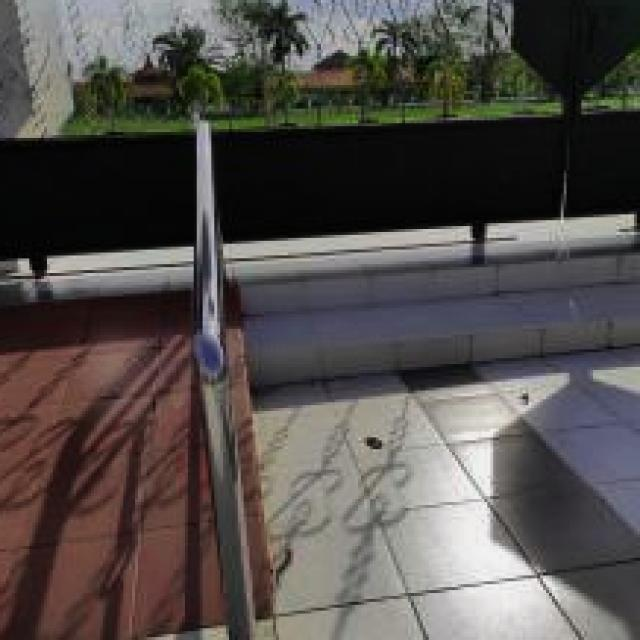upstair: (224, 248, 640, 389)
